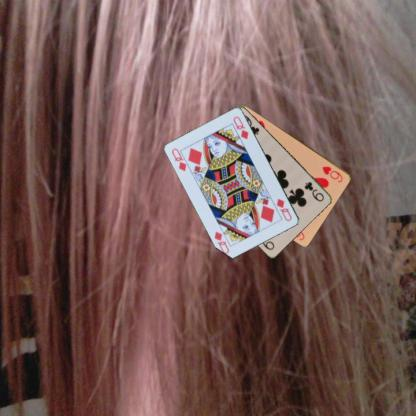6h: (320, 164, 344, 184)
9c: (302, 179, 325, 203)
Qd: (170, 146, 192, 172), (274, 196, 293, 222)
